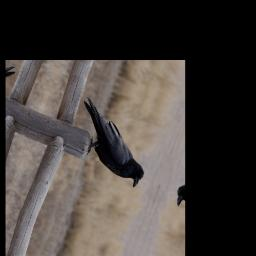Crow: (62, 95, 162, 191)
